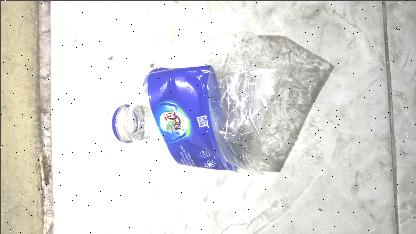Plastic Bottle: (102, 31, 286, 175)
